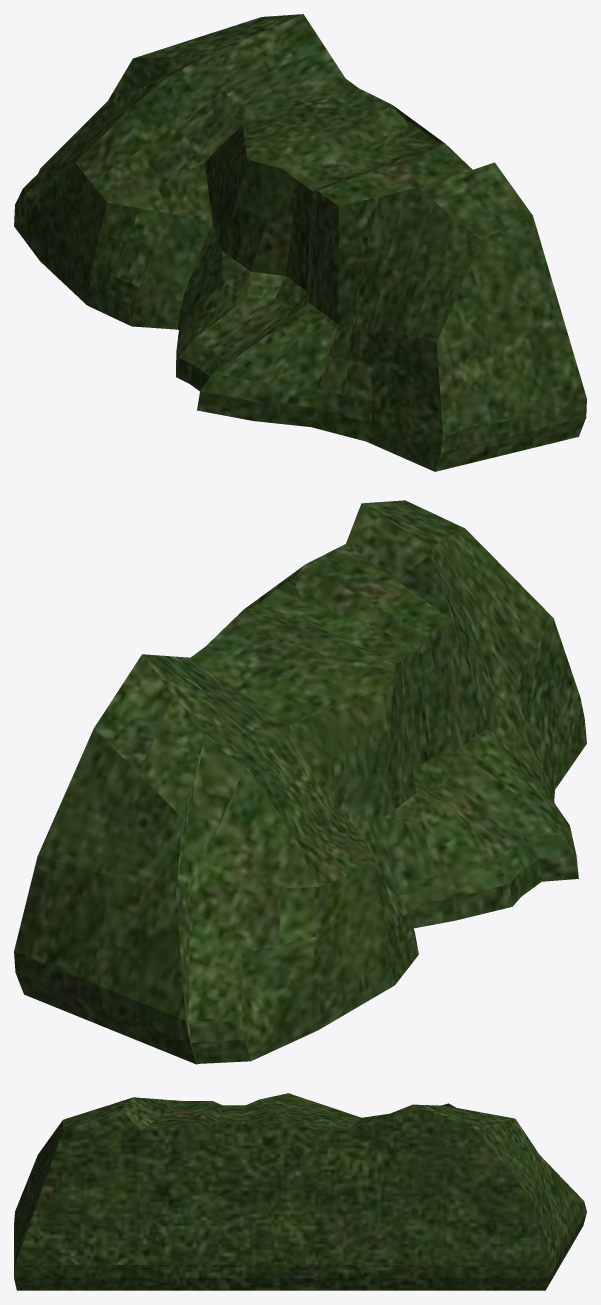
Rendered from AYL_rock_3.fbx.
3 renders of one model, top to bottom at view 1: azimuth 30°, elevation 25°; view 2: azimuth 150°, elevation 25°; view 3: azimuth 270°, elevation 25°, orthographic. The views are drawn at different scales.
Visible parts, largest first — view 1: Plane.001; view 2: Plane.001; view 3: Plane.001.
Boxes of the visible parts, x1,y1,x2,y2 form: Plane.001: (14, 14, 586, 471); Plane.001: (14, 500, 586, 1064); Plane.001: (14, 1093, 586, 1290).
Size of the model in its own units: 272 by 231 by 666.
